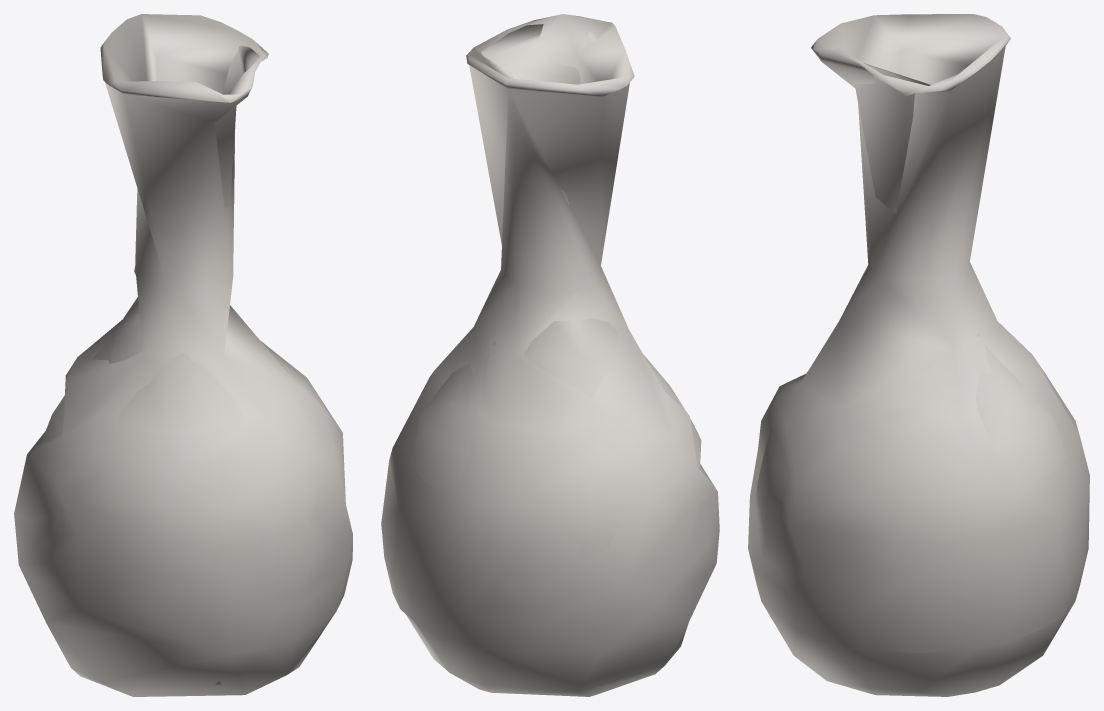
File: ceramic_vase_01.glb
3 renders of one model, left to right at view 1: azimuth 30°, elevation 25°; view 2: azimuth 150°, elevation 25°; view 3: azimuth 270°, elevation 25°, orthographic.
Visible parts, largest first — view 1: ceramic_vase_01; view 2: ceramic_vase_01; view 3: ceramic_vase_01.
Part boxes in pixels (bbox=[...]): ceramic_vase_01: bbox=[14, 14, 352, 696]; ceramic_vase_01: bbox=[381, 14, 719, 696]; ceramic_vase_01: bbox=[748, 14, 1089, 696].
Size of the model in its own units: 0.2022 by 0.3998 by 0.2007.
Materials: 1 (1 with a texture image).
